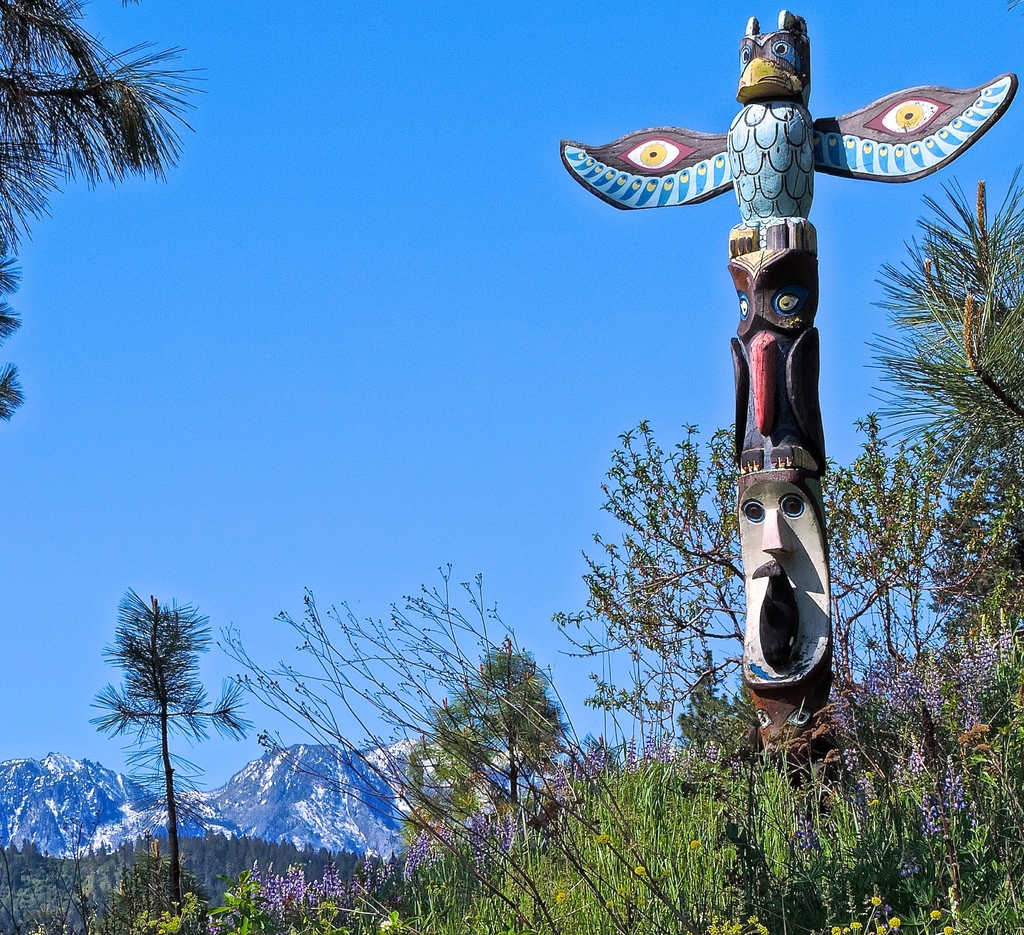Tree: (0, 165, 1024, 935), (0, 0, 210, 428)
